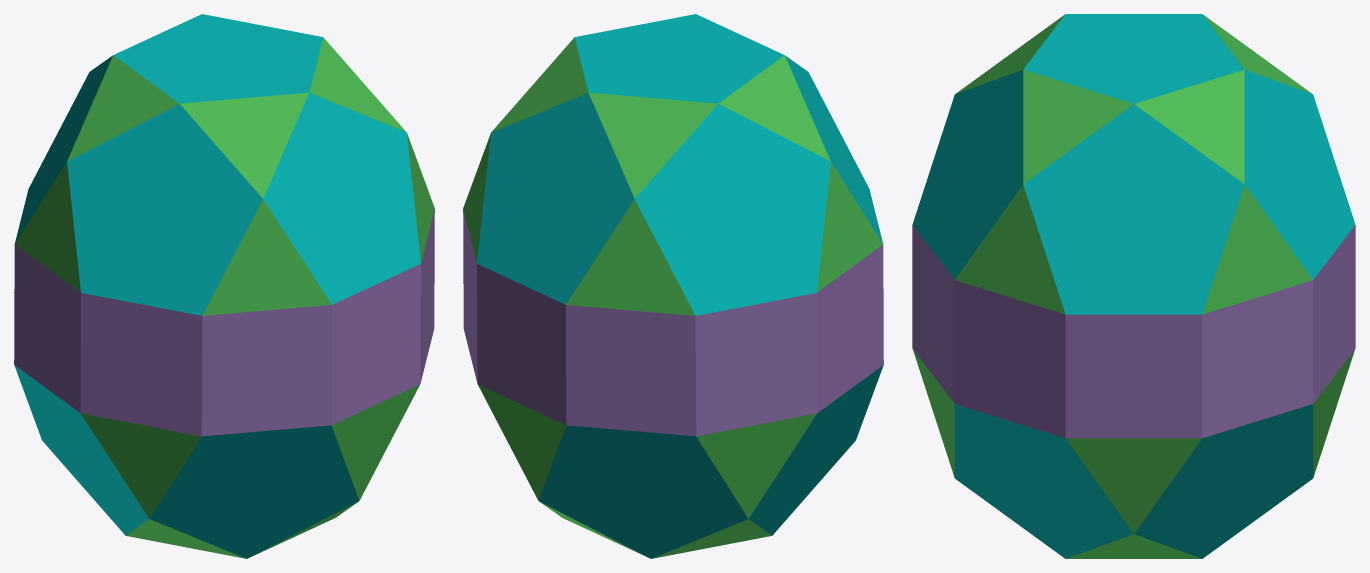
The model's file is J43.GirobirrotondaPentagonalElongada.gltf.
The picture shows the model from 3 angles, left to right: view 1: azimuth 30°, elevation 25°; view 2: azimuth 150°, elevation 25°; view 3: azimuth 270°, elevation 25°; orthographic projection. The views are drawn at different scales.
Visible parts, largest first — view 1: J43.GirobirrotondaPentagonalElongada; view 2: J43.GirobirrotondaPentagonalElongada; view 3: J43.GirobirrotondaPentagonalElongada.
Boxes of the visible parts, <box> form: J43.GirobirrotondaPentagonalElongada: <box>14,14,434,558</box>; J43.GirobirrotondaPentagonalElongada: <box>463,14,883,558</box>; J43.GirobirrotondaPentagonalElongada: <box>912,14,1355,558</box>.
Size of the model in its own units: 14.96 by 18.25 by 15.71.
